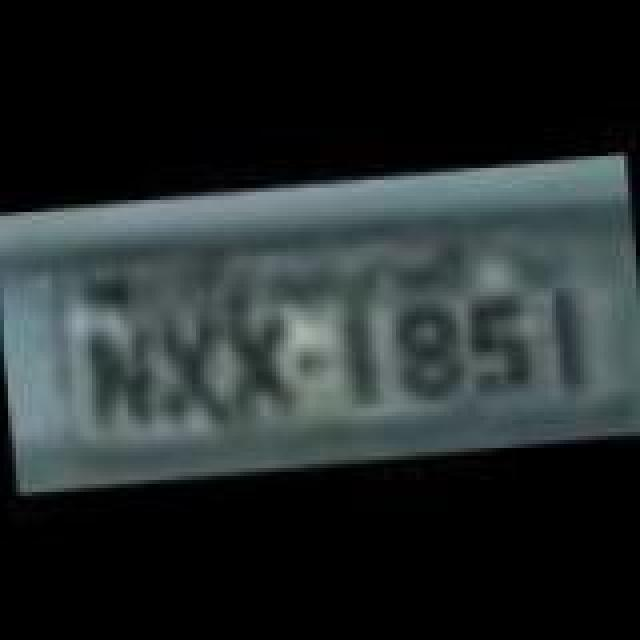1: (336, 294, 388, 410), (546, 282, 590, 390)
5: (460, 286, 532, 394)
8: (390, 296, 470, 404)
N: (80, 316, 164, 432)
X: (222, 306, 302, 422), (148, 312, 224, 428)
